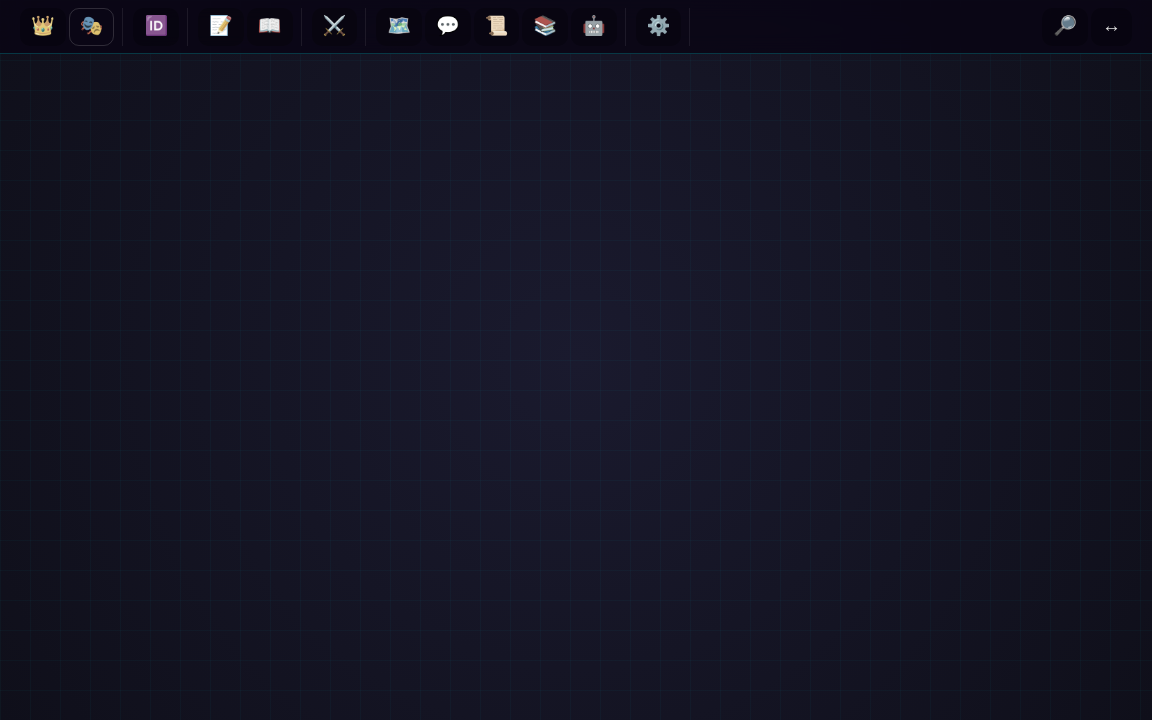
Scenario: Sidebar - Modo Jogador › clicar em 🎭 liga o Modo Jogador: some o 👑, o 🎭 continua e fica pressionado
Step 1. Click the button with class "btn-modo-jogador" → (92, 26), box [69,8,114,46]
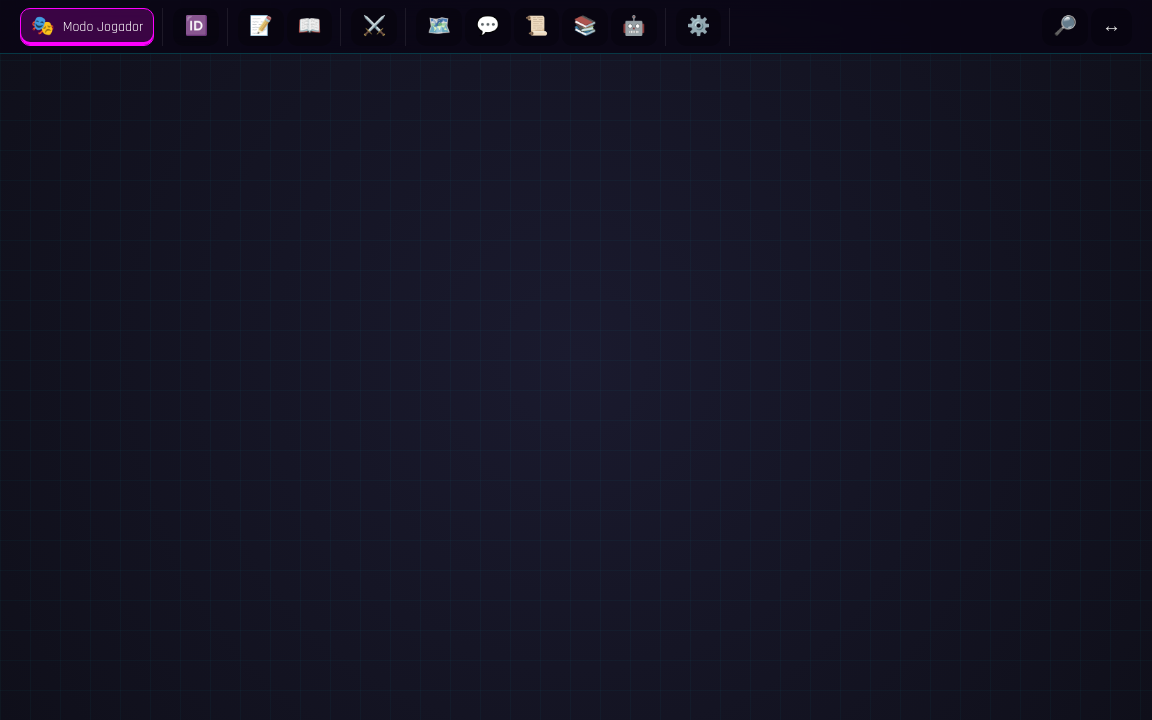
Result: the button with class "btn-macro-mestre" is gone
